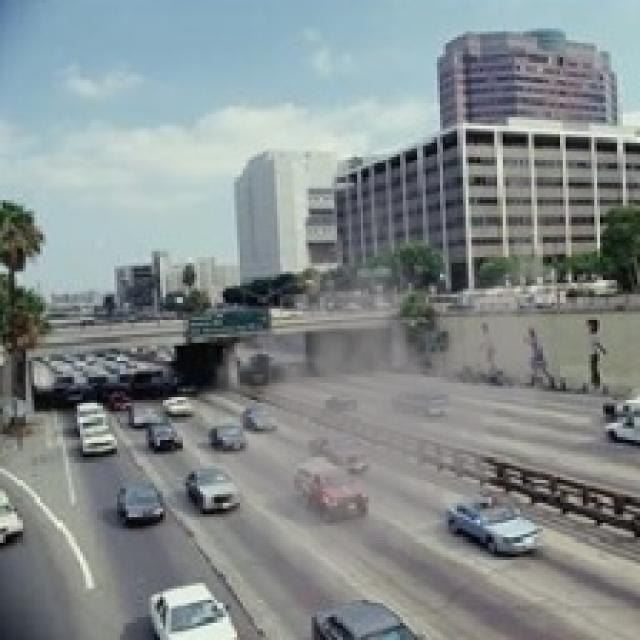Smoke: (183, 172, 563, 594)
